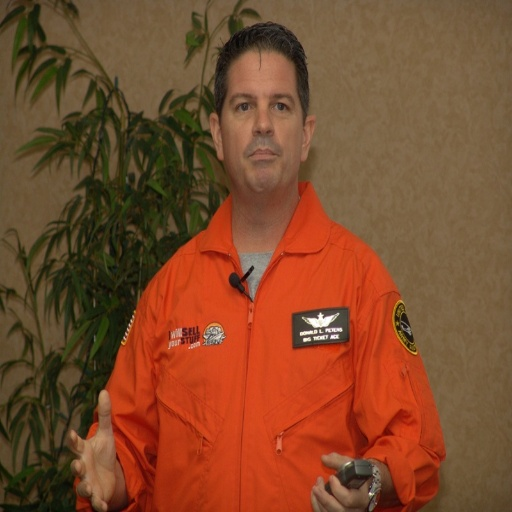hand: (63, 415, 124, 510), (309, 453, 374, 510)
